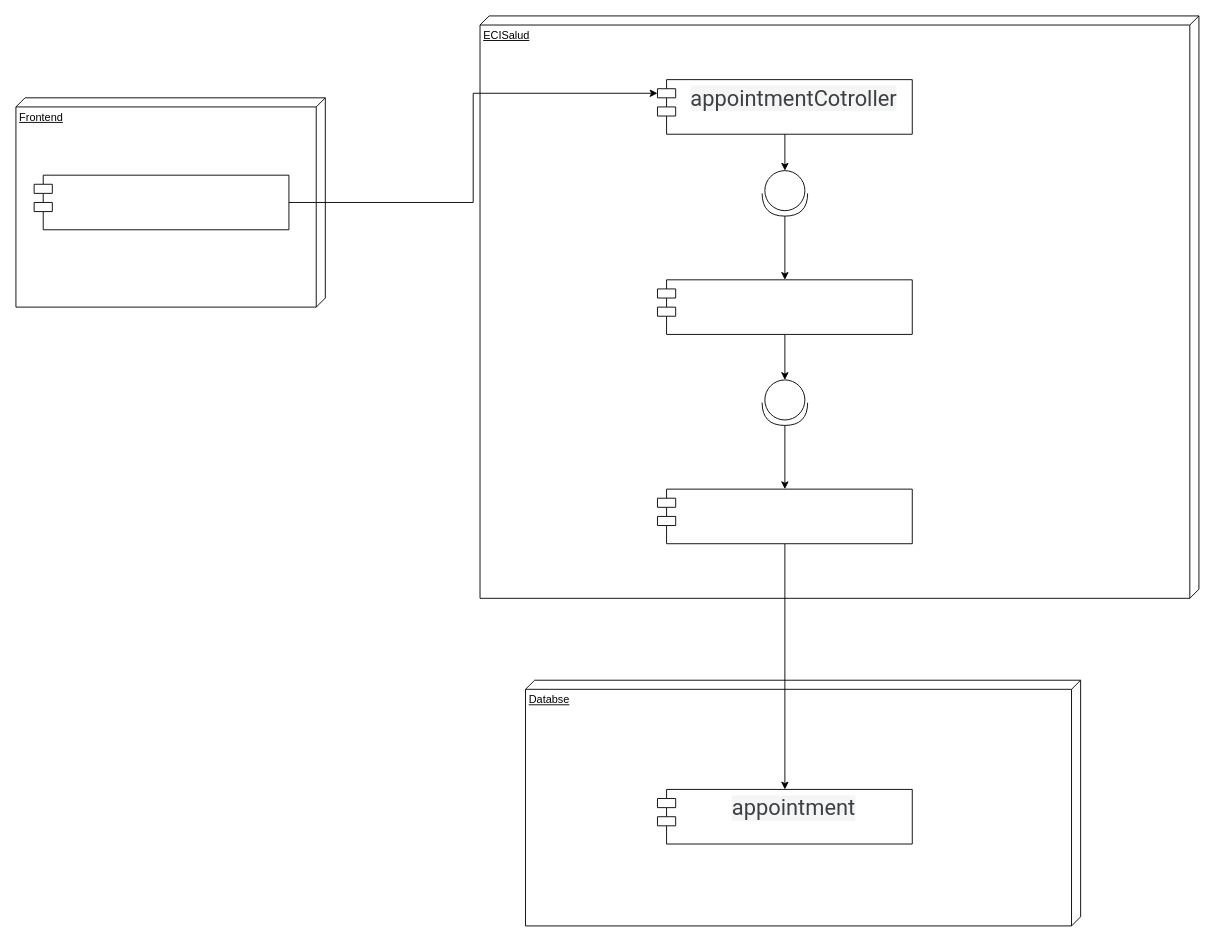
Image size: 1215x942. Some labels were removed from this diagram. The centre of each missing label's shape, as x and y in pixels:
api.ts: (161,202)
appointmentRepository: (784,516)
appointmentService: (784,306)
